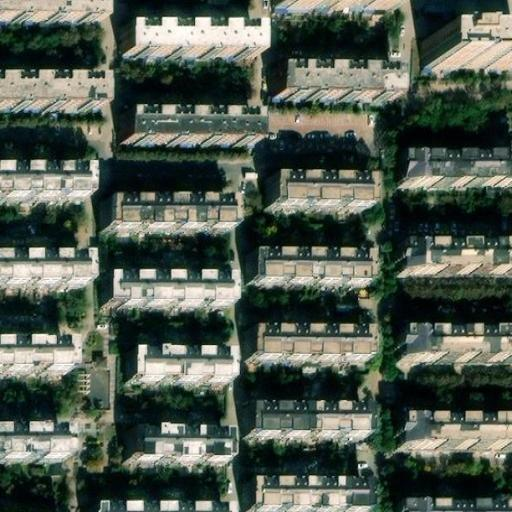building: (123, 115, 257, 148), (100, 279, 229, 311), (390, 334, 512, 367), (121, 26, 260, 54), (276, 70, 395, 101), (103, 203, 230, 232), (382, 422, 512, 450), (395, 247, 512, 277), (249, 257, 369, 286), (405, 159, 512, 191), (266, 178, 369, 211), (245, 335, 366, 363), (124, 354, 227, 386), (0, 77, 99, 108), (125, 435, 224, 466), (241, 412, 359, 438), (244, 487, 365, 512), (0, 257, 86, 288), (0, 170, 88, 199), (427, 37, 512, 66), (0, 344, 69, 376), (0, 430, 69, 462), (99, 500, 227, 512), (277, 0, 400, 7), (393, 507, 504, 512)
